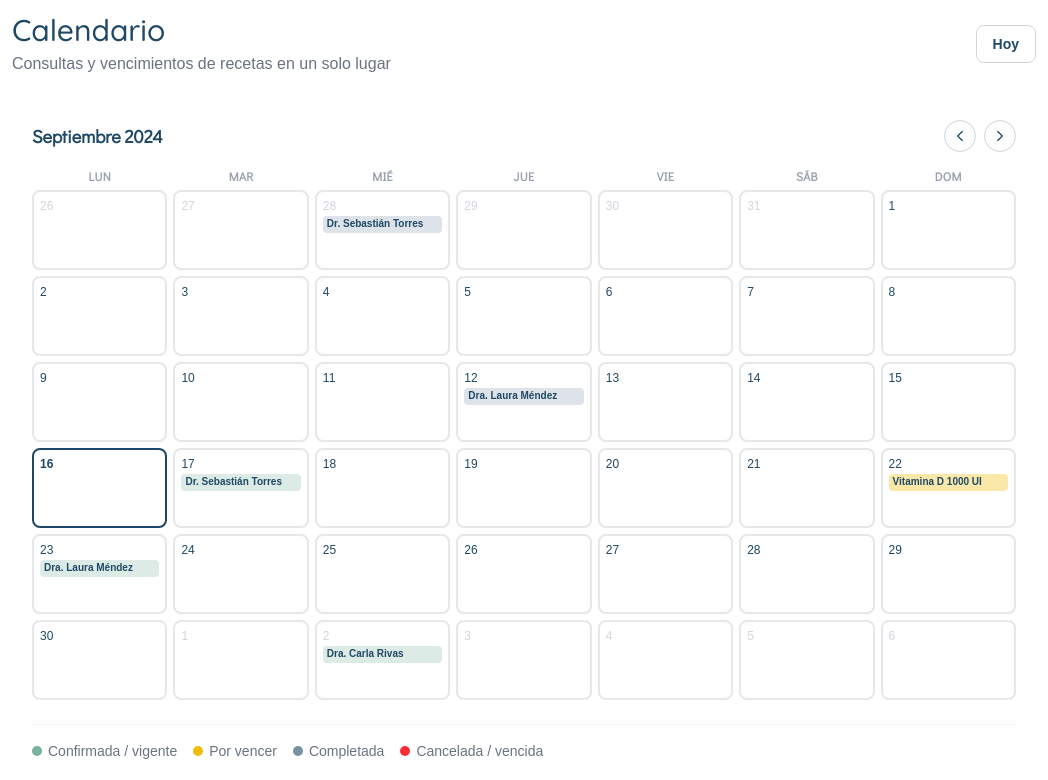
CalendarioPage › clicking 'Hoy' shows the mocked date again (September 16, 2024)
Expected: the button "16" is shown, [32,448,167,528]
Move to another month: the "today" marker disappears because 09/16 is no longer in the grid.
Click the button named "mes siguiente": (1000, 136) [984,120,1016,152]
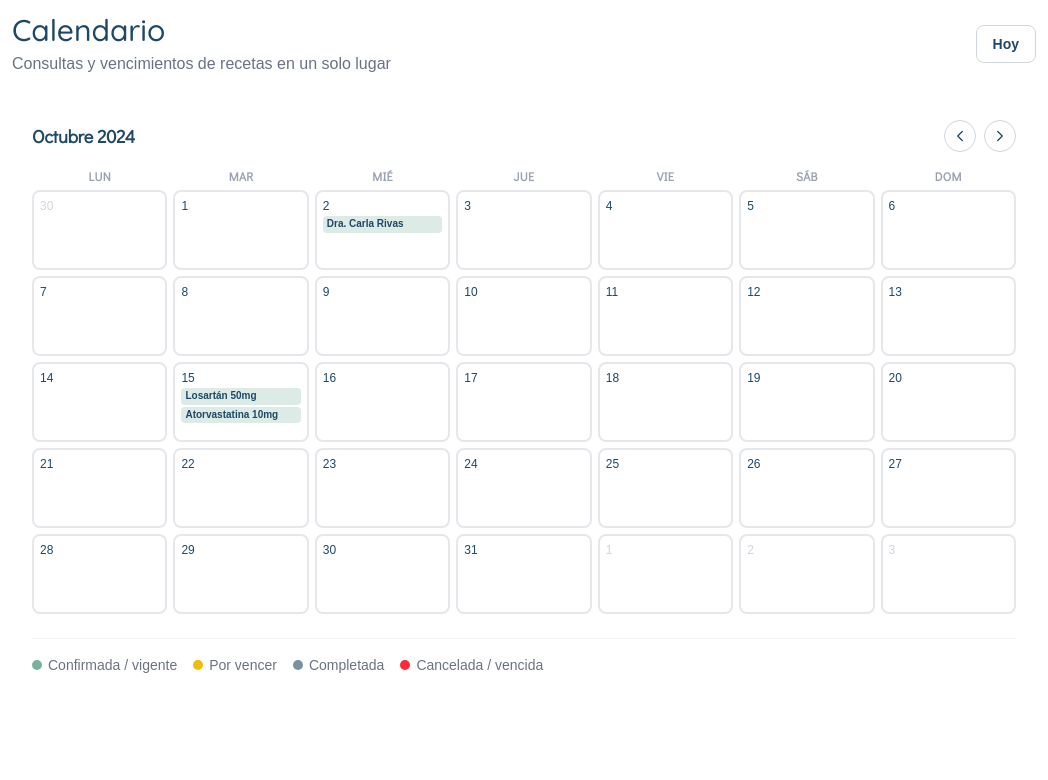
Expected: the text "Octubre 2024" is shown, [32,122,135,150]
Click the button "Hoy": (1006, 44) [976,25,1036,63]
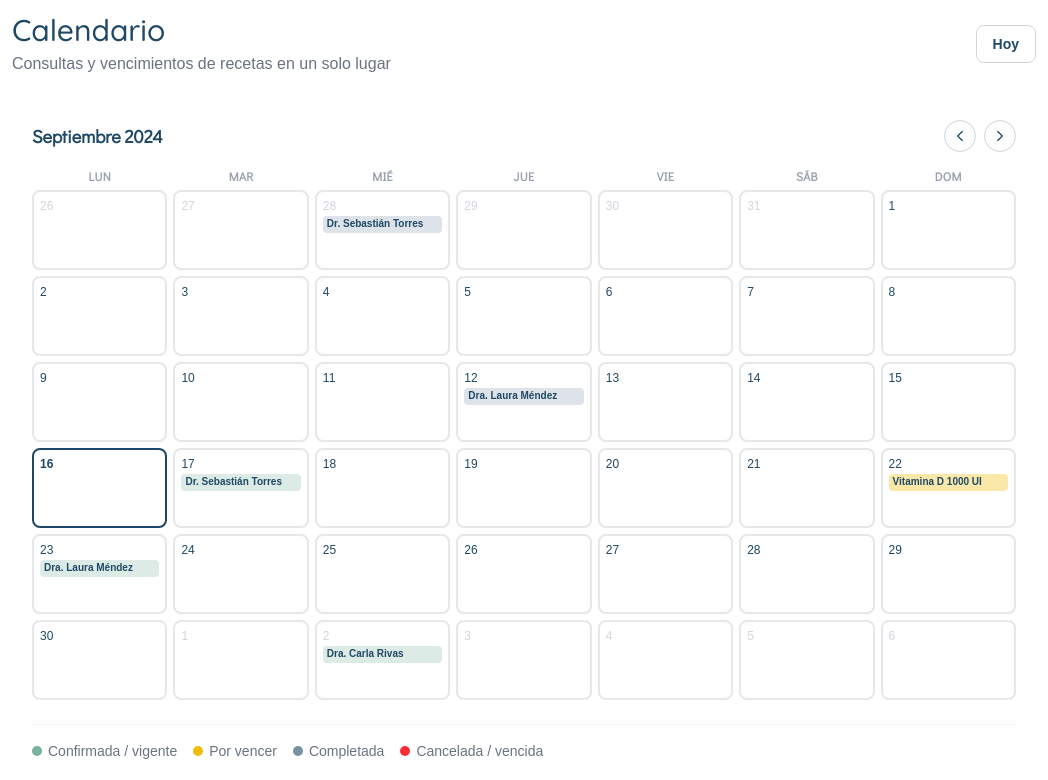
Expected: the button "16" is shown, [32,448,167,528]
Expected: the text "Septiembre 2024" is shown, [32,122,162,150]
